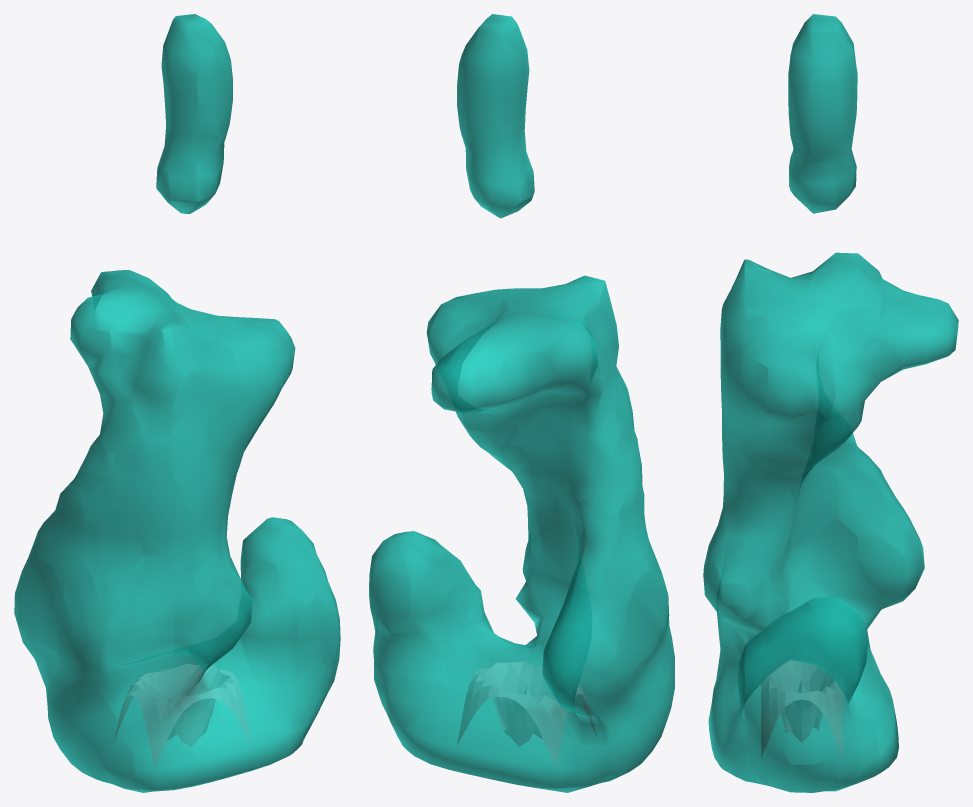
The picture shows the model from 3 angles, left to right: view 1: azimuth 30°, elevation 25°; view 2: azimuth 150°, elevation 25°; view 3: azimuth 270°, elevation 25°; orthographic projection.
Parts seen in each view (by area): view 1: Liquid_Domain, グリッド; view 2: Liquid_Domain, グリッド; view 3: Liquid_Domain, グリッド.
Part boxes in pixels (left/top/right/bottom): Liquid_Domain: left=14, top=14, right=340, bottom=792; グリッド: left=114, top=664, right=251, bottom=769; Liquid_Domain: left=369, top=14, right=674, bottom=792; グリッド: left=457, top=661, right=596, bottom=768; Liquid_Domain: left=703, top=14, right=958, bottom=792; グリッド: left=761, top=660, right=842, bottom=758.
Size of the model in its own units: 1.18 by 3 by 0.9342.
